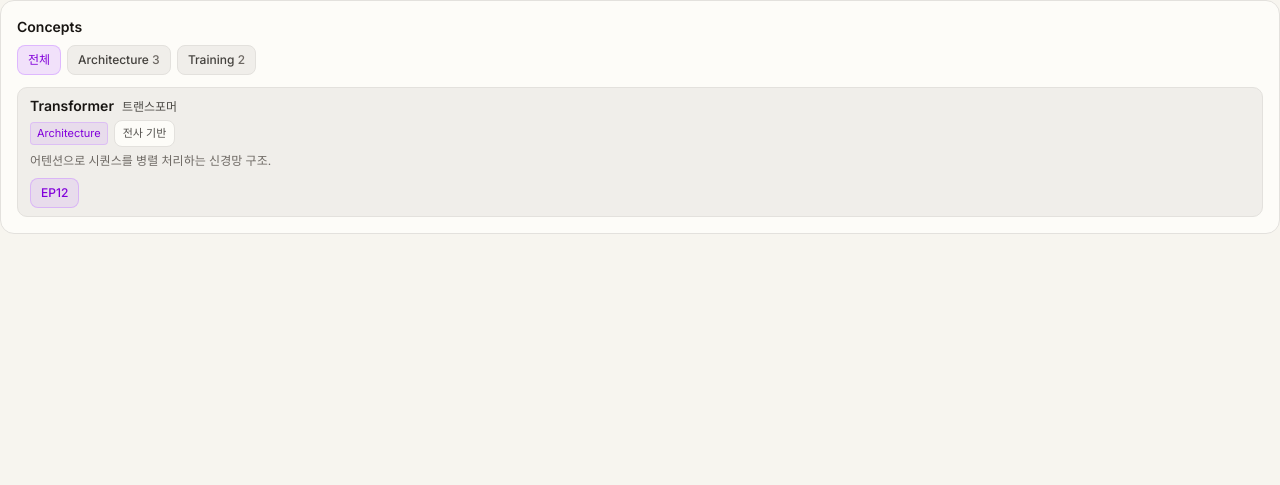
Test case: ConceptsPane 펼치기 › 펼치면 한줄 설명·직관·중요성을 구조적으로 보여준다
What coordinates should you click on to do the following:
click the button "Transformer"
I would click on:
 (72, 106)
Its box is [18,88,1262,178].
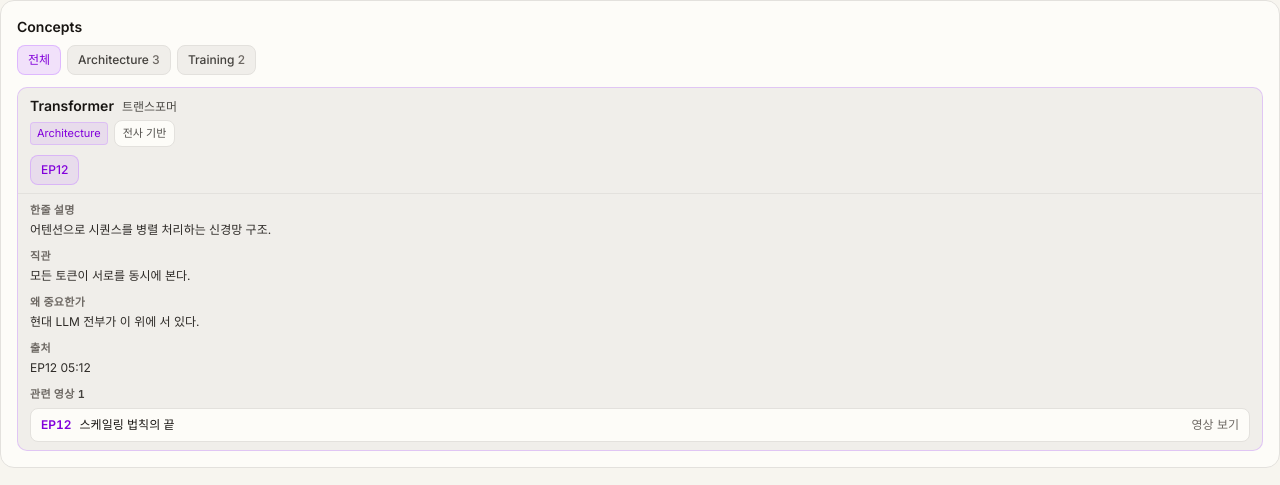
Result: the text "한줄 설명" is shown at [30,202,75,216]
Result: the text "직관" is shown at [30,248,51,262]
Result: the text "왜 중요한가" is shown at [30,294,85,308]
